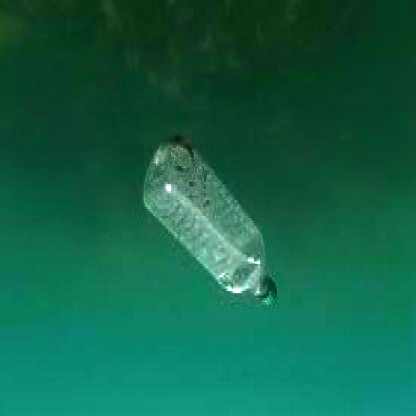pbottle: (139, 132, 280, 330)
